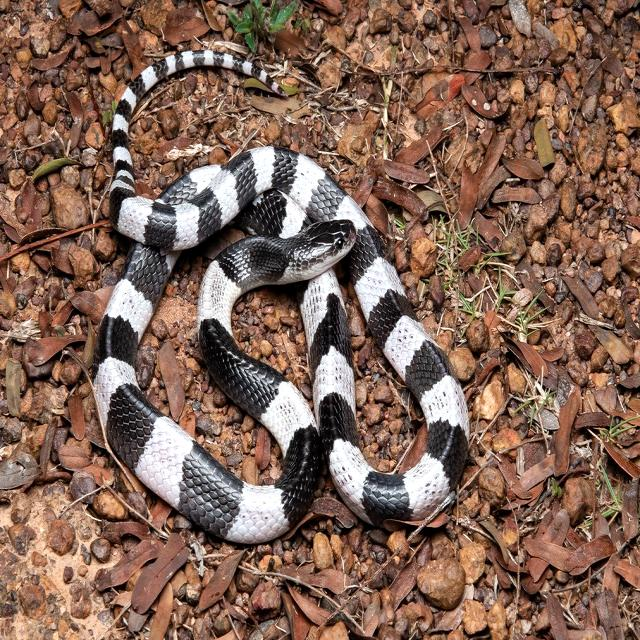Bungarus candidus: (95, 51, 468, 542)
